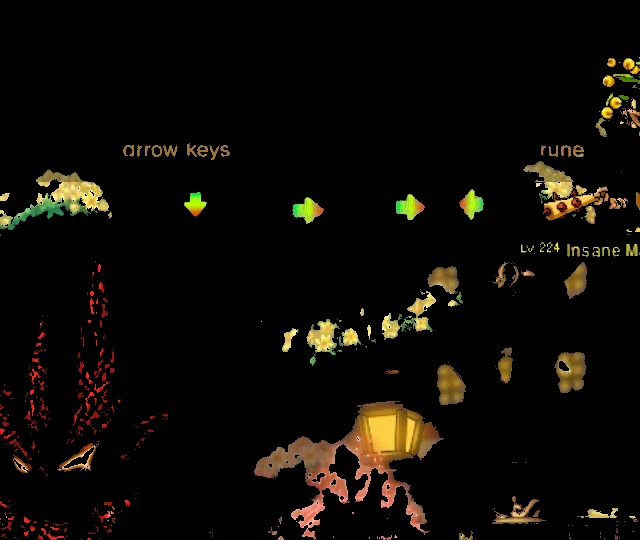rune_box: (139, 160, 554, 263)
